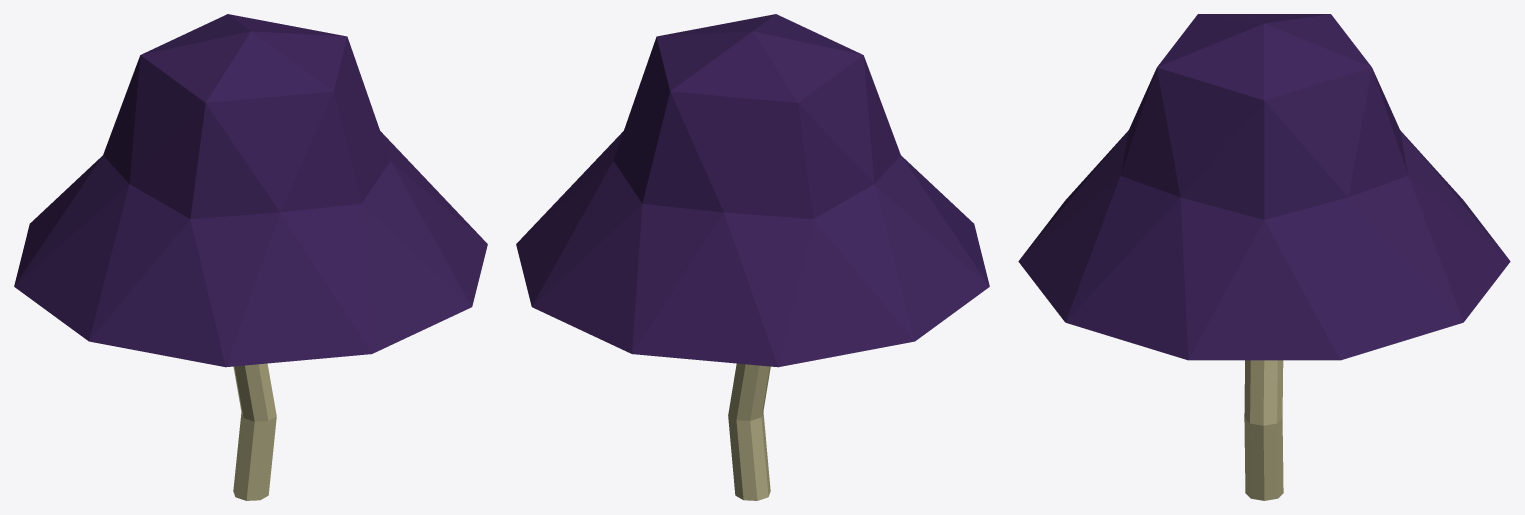
The model's file is hat_mushroom_purple.fbx.
The picture shows the model from 3 angles, left to right: view 1: azimuth 30°, elevation 25°; view 2: azimuth 150°, elevation 25°; view 3: azimuth 270°, elevation 25°; orthographic projection.
Parts seen in each view (by area): view 1: hat_mushroom_purple; view 2: hat_mushroom_purple; view 3: hat_mushroom_purple.
Part boxes in pixels (x1,y1,x2,y2): hat_mushroom_purple: (14, 14, 487, 500); hat_mushroom_purple: (516, 14, 989, 500); hat_mushroom_purple: (1018, 14, 1510, 500).
Bounding box in the file's own units: 74.49 × 82.43 × 78.32.
